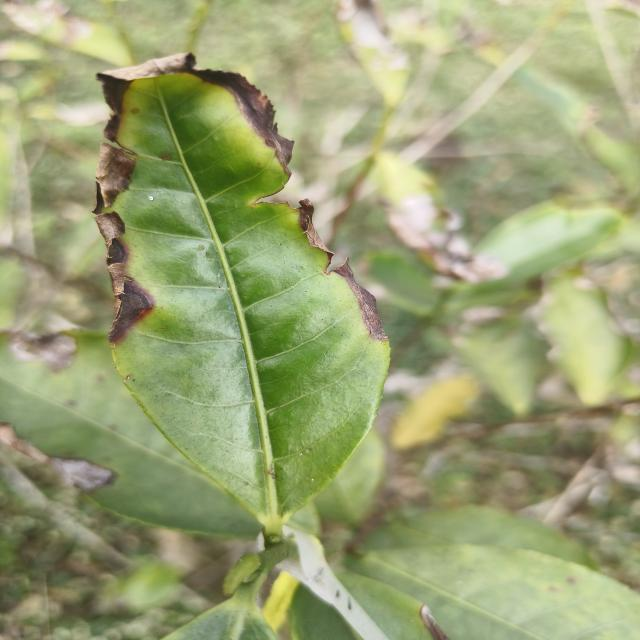Leaf: (95, 53, 389, 535), (0, 332, 259, 538), (345, 544, 640, 640), (541, 272, 629, 406), (476, 201, 622, 278), (456, 315, 545, 415)
